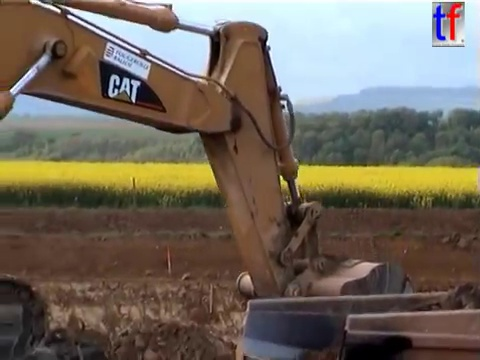excavator: (1, 1, 426, 360)
truck: (235, 283, 480, 360)
